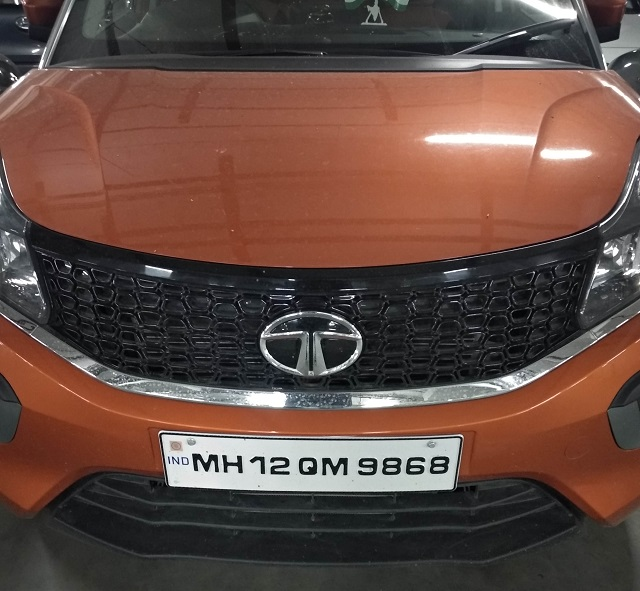licenseplate: (157, 427, 464, 490)
